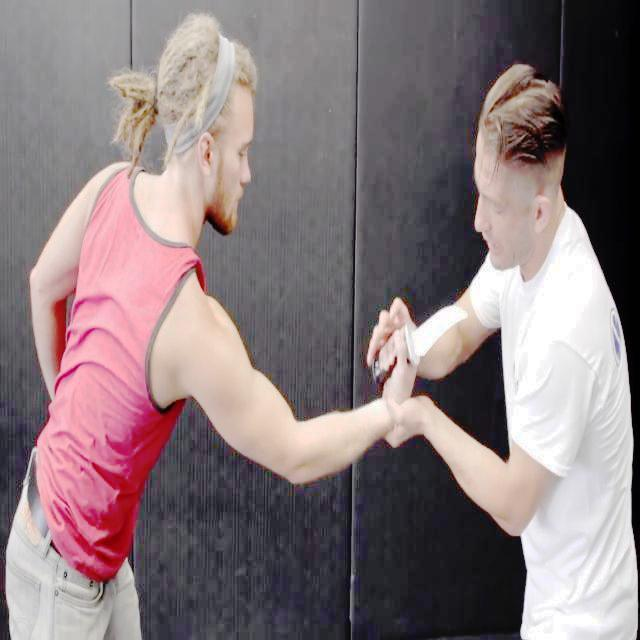Knife: (352, 282, 472, 378)
